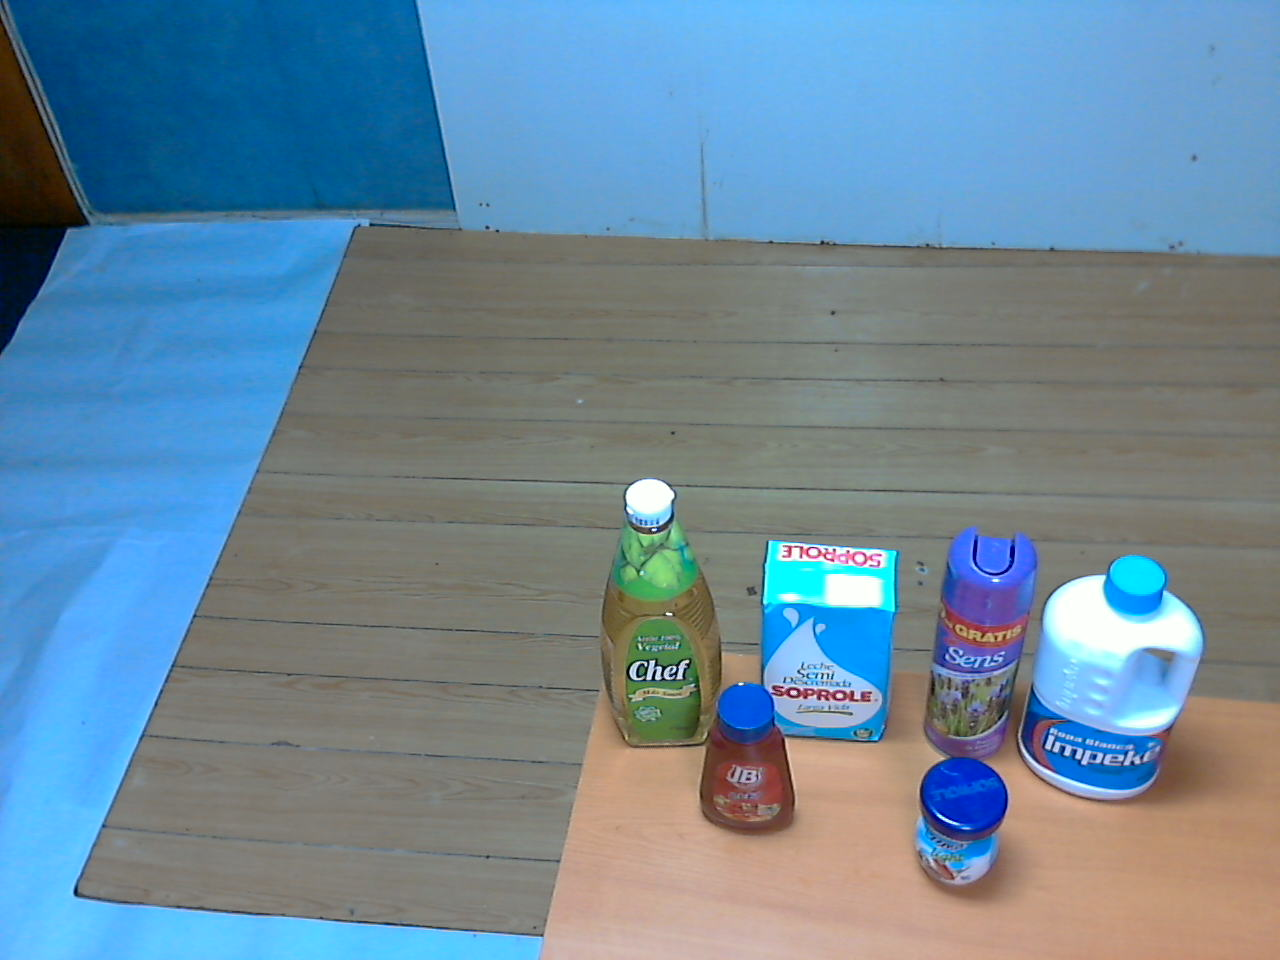aceite: (585, 475, 732, 759)
aerosol: (920, 525, 1045, 770)
cloro: (1008, 547, 1211, 819)
crema: (910, 751, 1022, 901)
ketchup: (689, 679, 804, 841)
leche: (749, 532, 908, 756)
